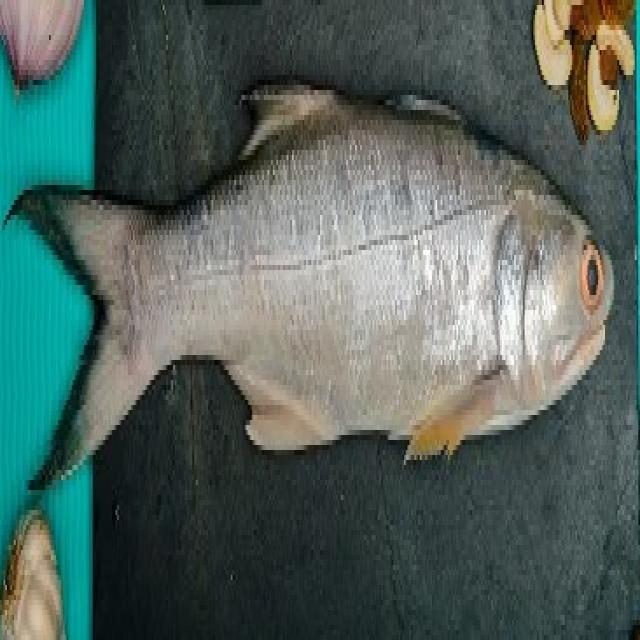Fourfinger-Threadfin: (5, 85, 624, 500)
